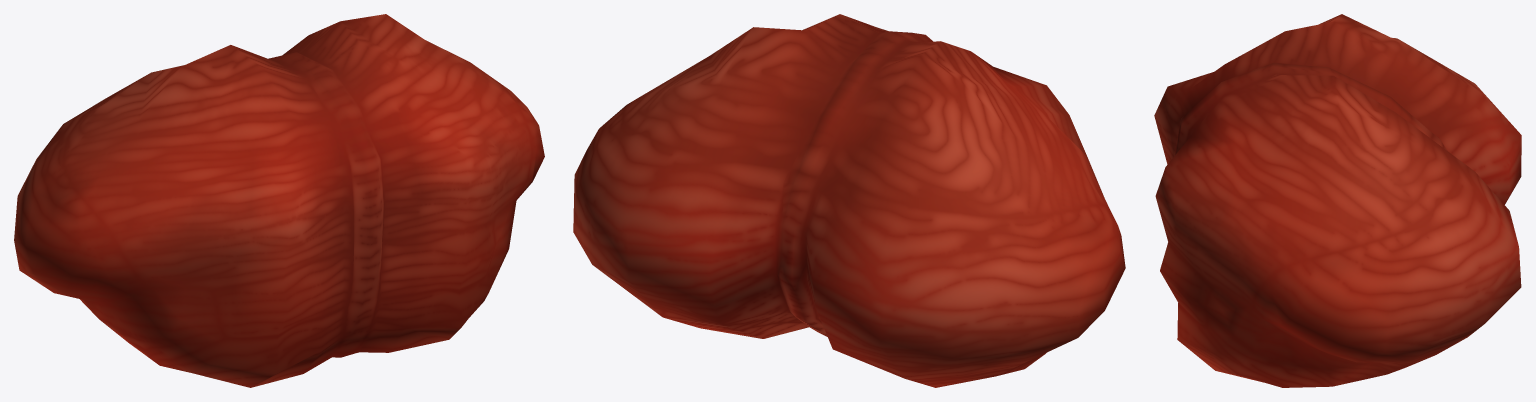
The model's file is Cerebellum.FBX.
The picture shows the model from 3 angles, left to right: view 1: azimuth 30°, elevation 25°; view 2: azimuth 150°, elevation 25°; view 3: azimuth 270°, elevation 25°; orthographic projection. The views are drawn at different scales.
Visible parts, largest first — view 1: Cerebellum; view 2: Cerebellum; view 3: Cerebellum.
Part boxes in pixels (bbox=[...]): Cerebellum: bbox=[14, 14, 544, 387]; Cerebellum: bbox=[573, 14, 1125, 387]; Cerebellum: bbox=[1154, 14, 1521, 387].
Size of the model in its own units: 73.12 by 48.91 by 42.72.
